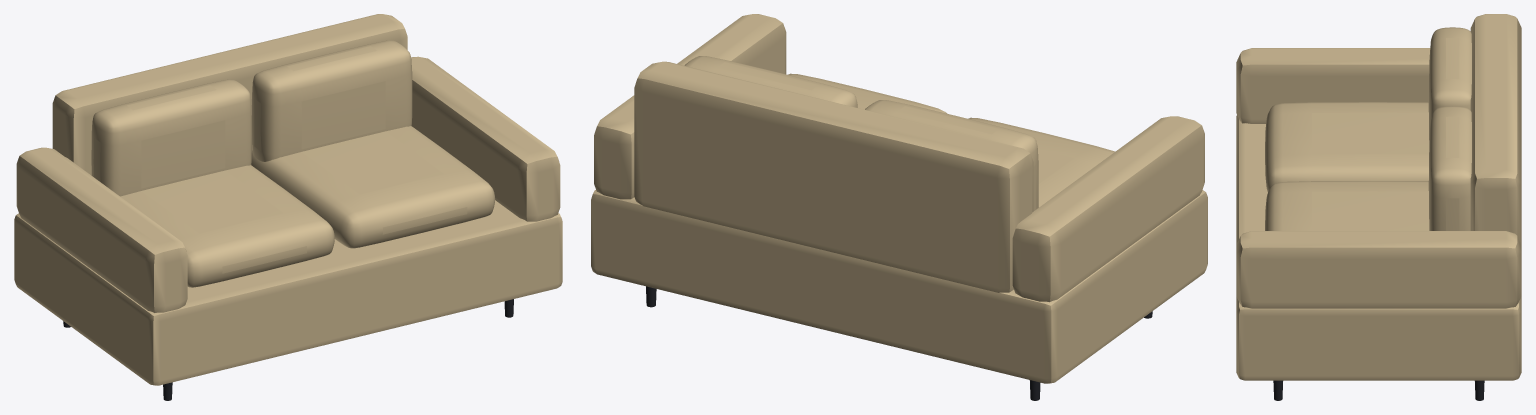
The model's file is sofa-2seat.glb.
3 views of the same model, side by side, from view 1: azimuth 30°, elevation 25°; view 2: azimuth 150°, elevation 25°; view 3: azimuth 270°, elevation 25° (orthographic). The views are drawn at different scales.
Visible parts, largest first — view 1: sofa-2seat; view 2: sofa-2seat; view 3: sofa-2seat.
Boxes of the visible parts, x1,y1,x2,y2 form: sofa-2seat: (14,14,562,400); sofa-2seat: (591,14,1207,400); sofa-2seat: (1236,14,1521,400).
Size of the model in its own units: 1.6 by 0.82 by 0.95.
